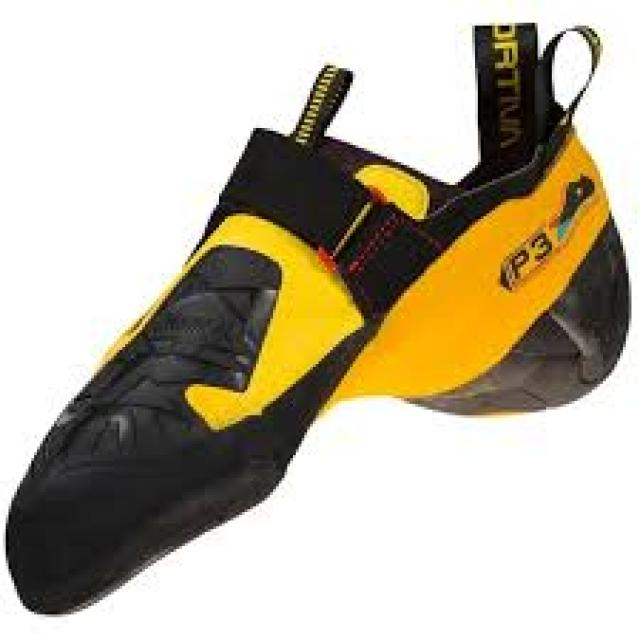climbing-shoes: (6, 21, 632, 616)
